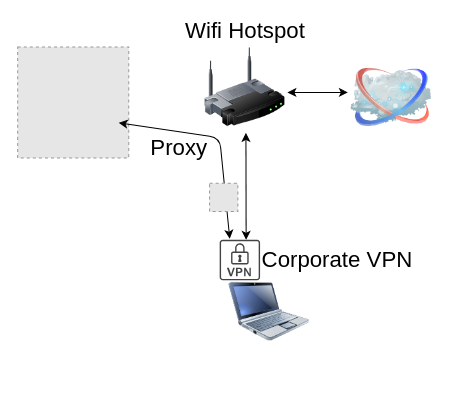
Some shapes in this 449 by 402 pixel diagram are drawn without their labels. Grey dashed boxes stand in for pictures. The centre of each missing label's shape, as x and y in pixels:
Internet: point (390, 97)
Laptop: point (268, 311)
